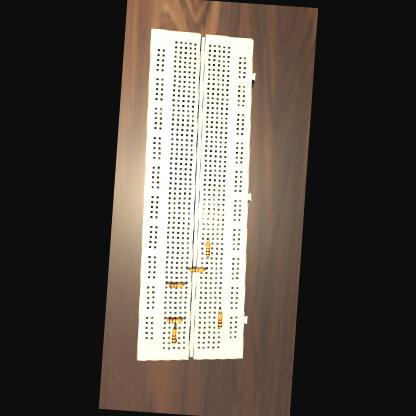breadboard: (127, 27, 266, 366)
resistor: (168, 280, 182, 288), (167, 316, 181, 324), (170, 327, 176, 343), (190, 266, 204, 272), (204, 241, 210, 255), (216, 312, 222, 326)
wire: (186, 266, 190, 269), (219, 306, 221, 312), (165, 281, 168, 284), (183, 281, 186, 284), (182, 316, 184, 320), (206, 237, 208, 241), (204, 266, 206, 270), (164, 317, 166, 320), (206, 256, 207, 258), (218, 327, 219, 329)
